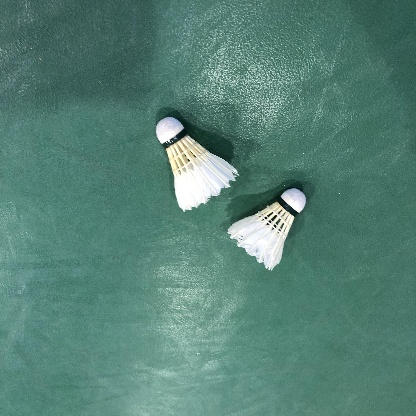ball_single: (156, 117, 240, 212), (227, 188, 306, 271)
